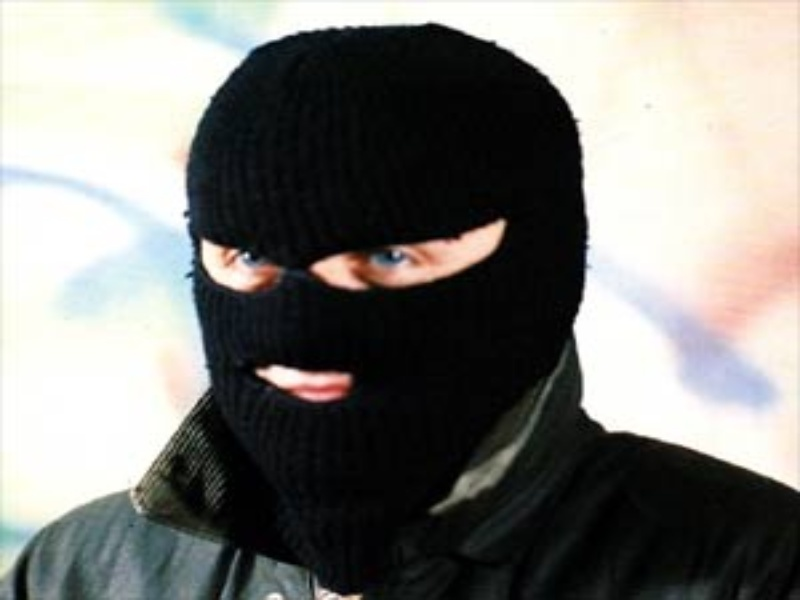balaclava: (188, 21, 589, 564)
person: (1, 24, 800, 600)
